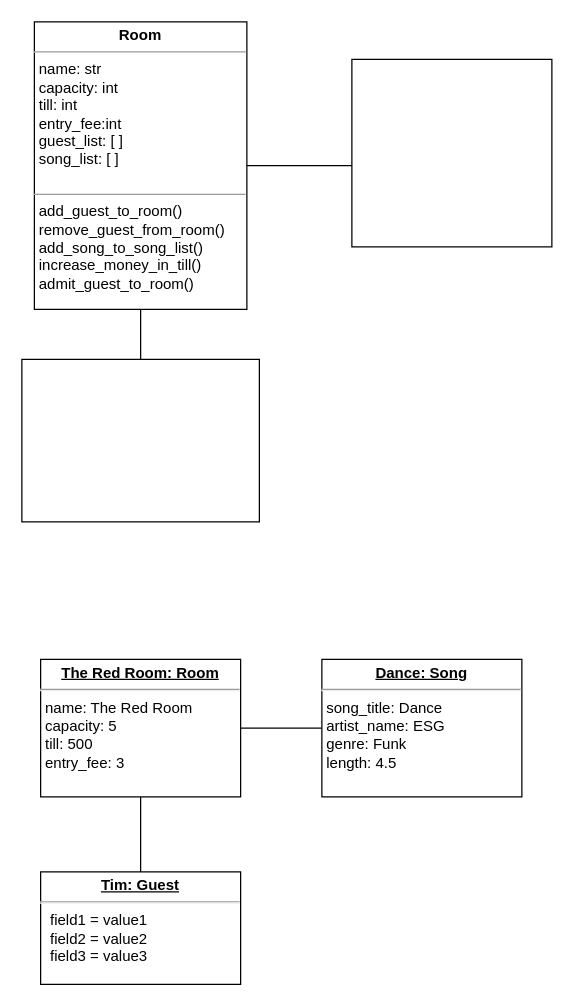
The diagram is 574 pixels wide and 1006 high, and some of its shapes have lost their labels. Here are the shapes that lost their labels. From the top down, the centre of each, then its label:
[451,152]: Song song_title: str artist_name: str genre: str length: float
[140,440]: Guest name: str wallet: float favourite_song: str remove_money_from_wallet()
